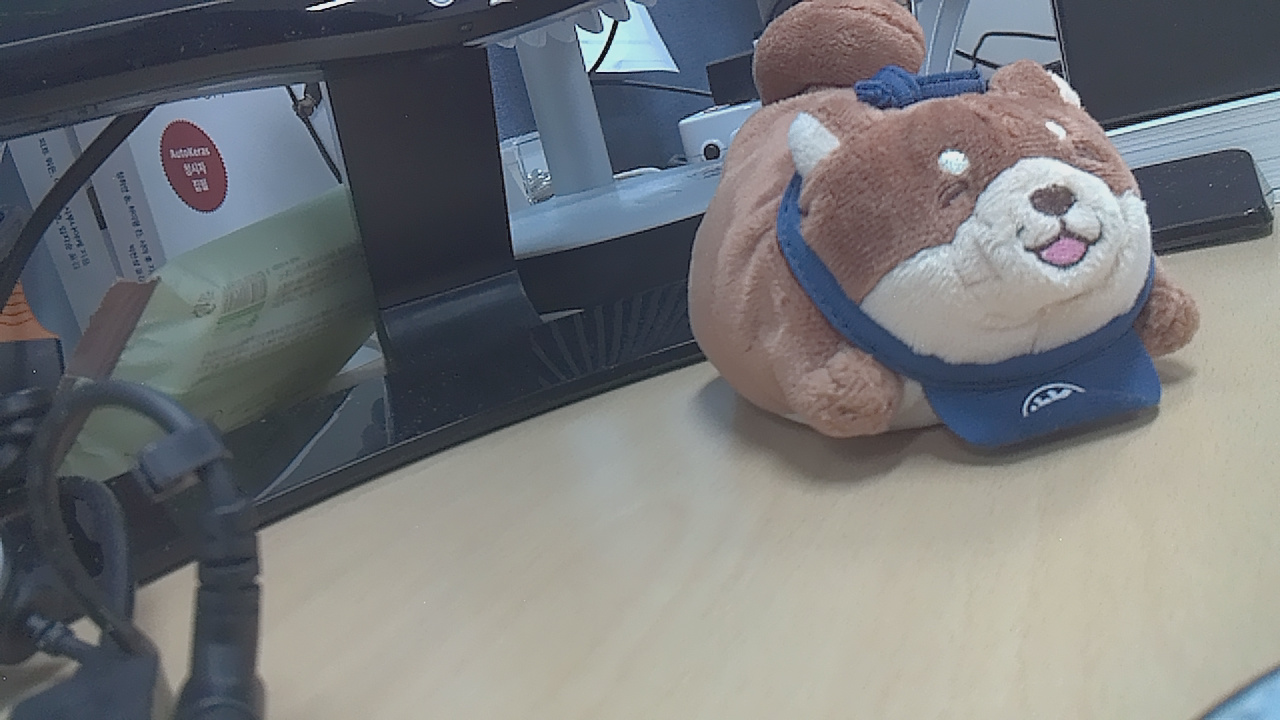cuteDog: (654, 34, 1241, 486)
